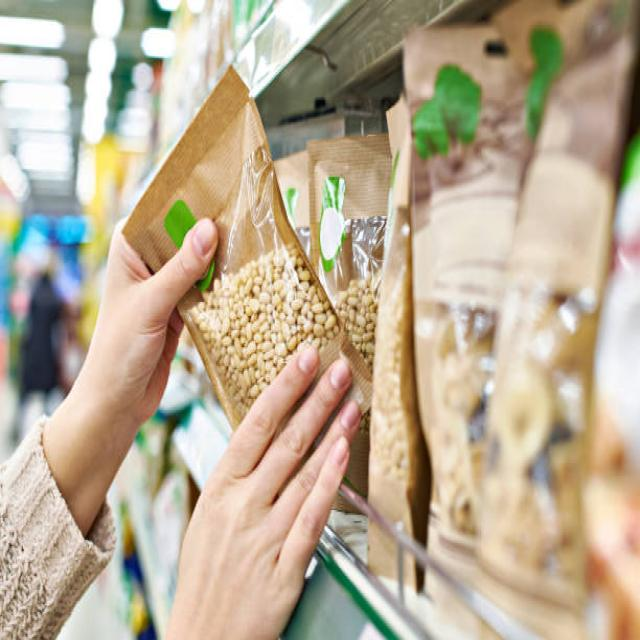article: (124, 69, 370, 426)
hands: (0, 219, 218, 638), (167, 347, 359, 638)
